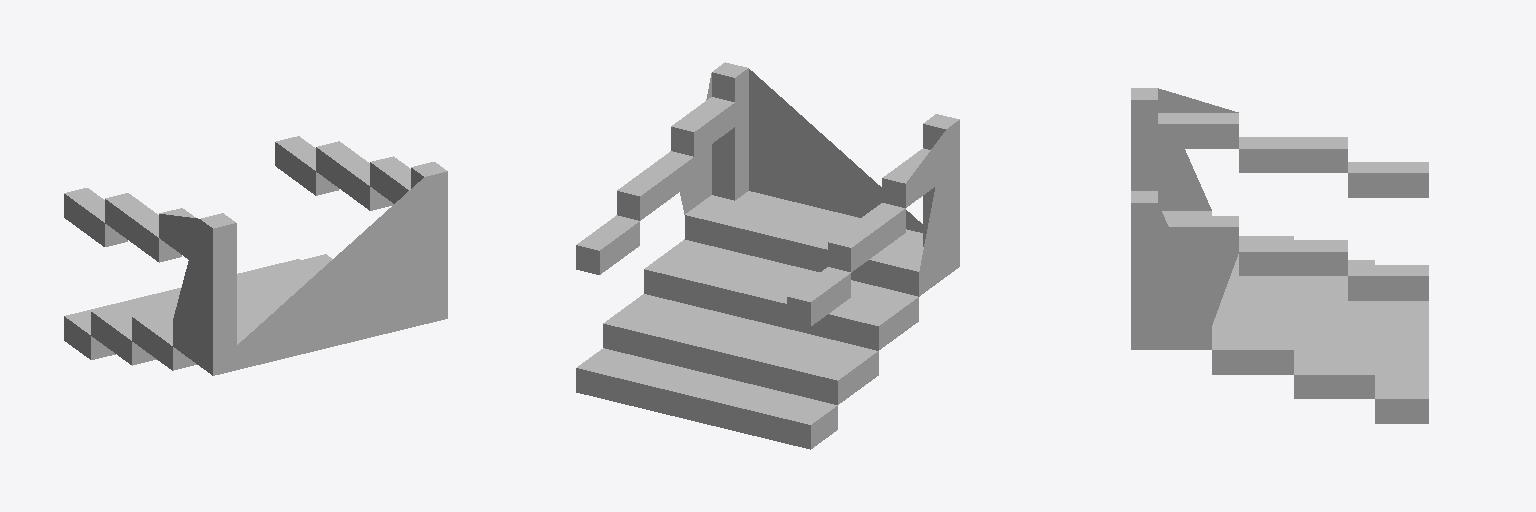
The model's file is Bridge_Out.obj.
3 renders of one model, left to right at view 1: azimuth 30°, elevation 25°; view 2: azimuth 150°, elevation 25°; view 3: azimuth 270°, elevation 25°, orthographic.
Parts seen in each view (by area): view 1: Bridge_Out_Bridge_Out.002; view 2: Bridge_Out_Bridge_Out.002; view 3: Bridge_Out_Bridge_Out.002.
Part boxes in pixels (x1,y1,x2,y2): Bridge_Out_Bridge_Out.002: (64, 136, 447, 375); Bridge_Out_Bridge_Out.002: (576, 62, 959, 449); Bridge_Out_Bridge_Out.002: (1131, 88, 1428, 423).
Bounding box in the file's own units: 1 × 0.9 × 1.1.